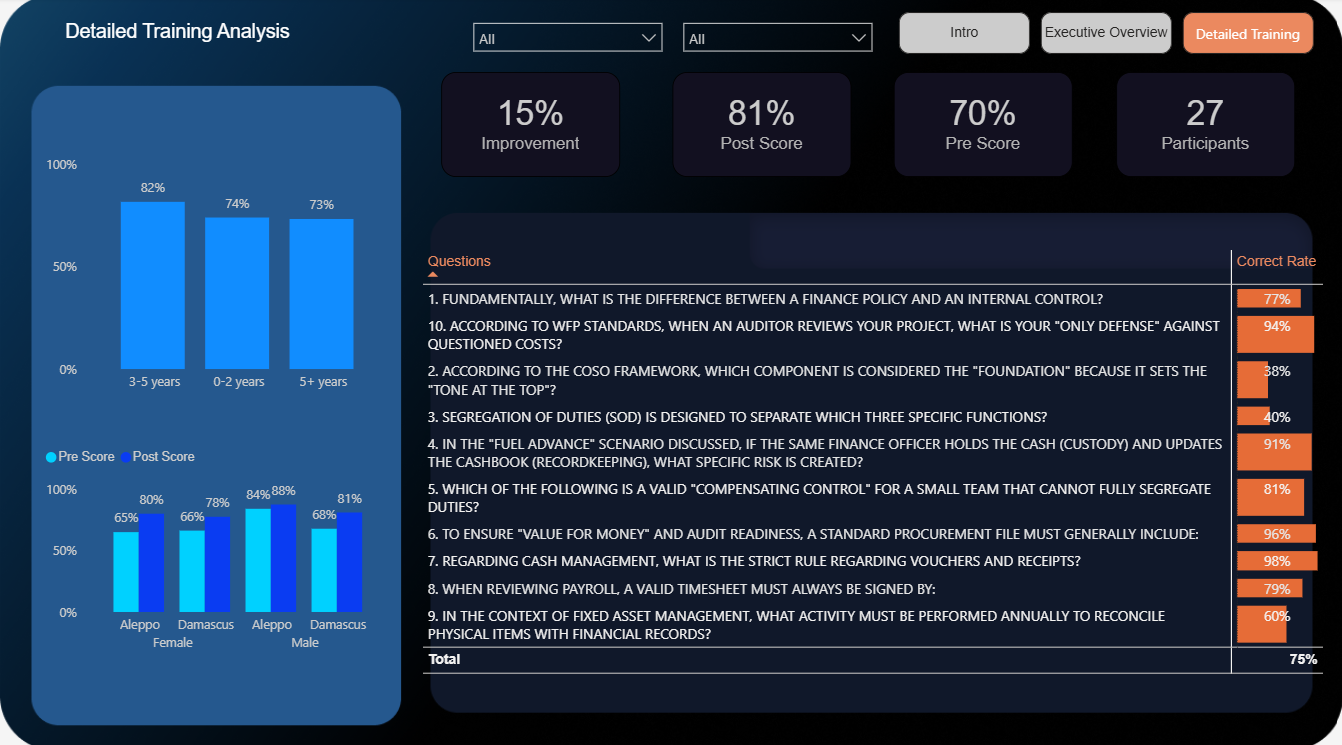

What the dashboard file says about the page in this screenshot:
{"tool":"powerbi","page":{"name":"Detailed Training ","canvas":[1280,720],"ordinal":2},"visuals":[{"type":"tableEx","fields":{"Values":["Sheet1.Questions","Sheet1.Correct Rate"]},"box":[396.4,235.7,869.1,448.8],"z":0},{"type":"cardVisual","fields":{"Data":["Sheet1.Participants"]},"box":[1063.1,71.4,170.2,100],"z":1000},{"type":"cardVisual","fields":{"Data":["Sheet1.Pre Score"]},"box":[851.2,71.4,170.2,100],"z":2000},{"type":"cardVisual","fields":{"Data":["Sheet1.Improvement"]},"box":[420.2,71.4,170.2,100],"z":3000},{"type":"cardVisual","fields":{"Data":["Sheet1.Post Score"]},"box":[640.5,71.4,170.2,100],"z":4000},{"type":"pageNavigator","box":[856,14.3,395,40.5],"z":4001},{"type":"clusteredColumnChart","fields":{"Y":["Sheet1.Pre Score","Sheet1.Post Score"],"Category":["Sheet1.Respondent gender","Sheet1.Training location"]},"box":[38.1,419,339.3,217.9],"z":4002},{"type":"clusteredColumnChart","fields":{"Category":["Sheet1.Experience Group"],"Y":["Sheet1.Average Score"]},"box":[38.1,145.2,339.3,239.3],"z":4003},{"type":"textbox","box":[57.1,17.9,339.3,33.3],"z":4004},{"type":"slicer","fields":{"Values":["Sheet1.Experience Group"]},"box":[440.5,14.3,200,40.5],"z":4005},{"type":"slicer","fields":{"Values":["Sheet1.Training location"]},"box":[640.5,14.3,200,40.5],"z":4006}]}

Visuals, with their boxes in screenshot pixels (x1, y1, x2, y2), scaled from the page's 1280x720 canvas onto the 1342x745 screenshot:
tableEx - Sheet1.Questions x Sheet1.Correct Rate: [left=416, top=244, right=1327, bottom=708]
cardVisual - Sheet1.Participants: [left=1115, top=74, right=1293, bottom=177]
cardVisual - Sheet1.Pre Score: [left=892, top=74, right=1071, bottom=177]
cardVisual - Sheet1.Improvement: [left=441, top=74, right=619, bottom=177]
cardVisual - Sheet1.Post Score: [left=672, top=74, right=850, bottom=177]
pageNavigator: [left=897, top=15, right=1312, bottom=57]
clusteredColumnChart - Sheet1.Pre Score x Sheet1.Post Score: [left=40, top=434, right=396, bottom=659]
clusteredColumnChart - Sheet1.Experience Group x Sheet1.Average Score: [left=40, top=150, right=396, bottom=398]
textbox: [left=60, top=19, right=416, bottom=53]
slicer - Sheet1.Experience Group: [left=462, top=15, right=672, bottom=57]
slicer - Sheet1.Training location: [left=672, top=15, right=881, bottom=57]
